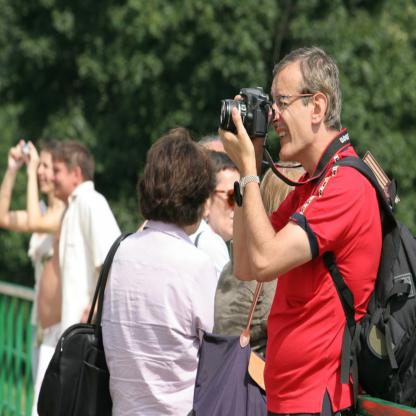Camera: (225, 83, 276, 141), (20, 144, 32, 161)
